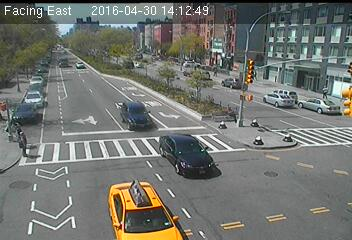neg: (227, 68, 241, 87), (88, 48, 102, 67), (193, 161, 206, 178), (213, 116, 225, 132), (275, 84, 286, 99), (43, 166, 54, 180), (93, 109, 103, 123), (132, 100, 139, 109)
pos: (7, 121, 28, 149), (10, 129, 30, 157), (320, 85, 332, 100), (211, 64, 221, 78)
